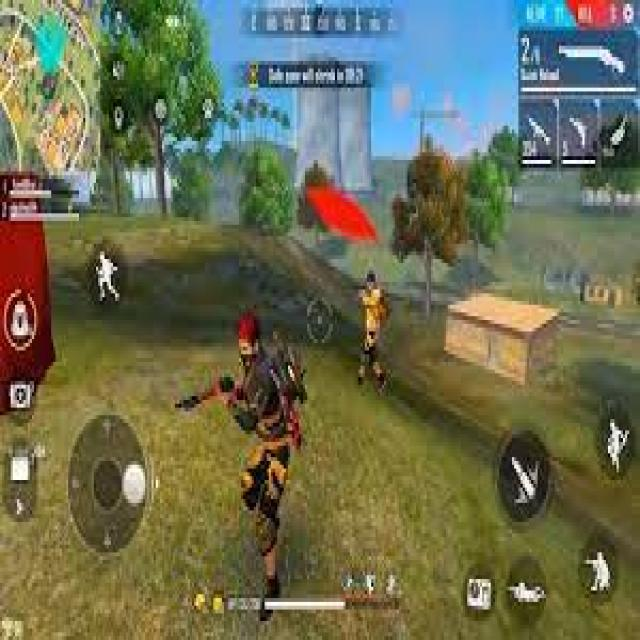character: (358, 272, 388, 393)
